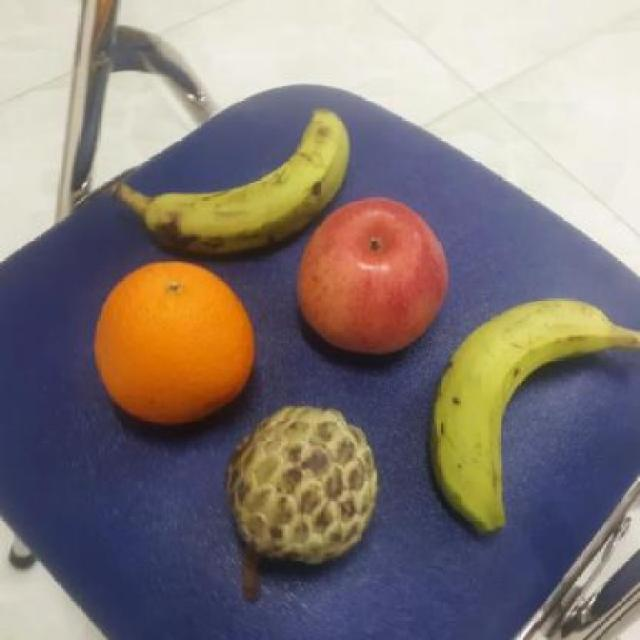apple: (293, 194, 452, 354)
banana: (426, 290, 617, 536), (142, 99, 353, 256)
oren: (87, 255, 258, 427)
sugar apple: (221, 402, 382, 566)
